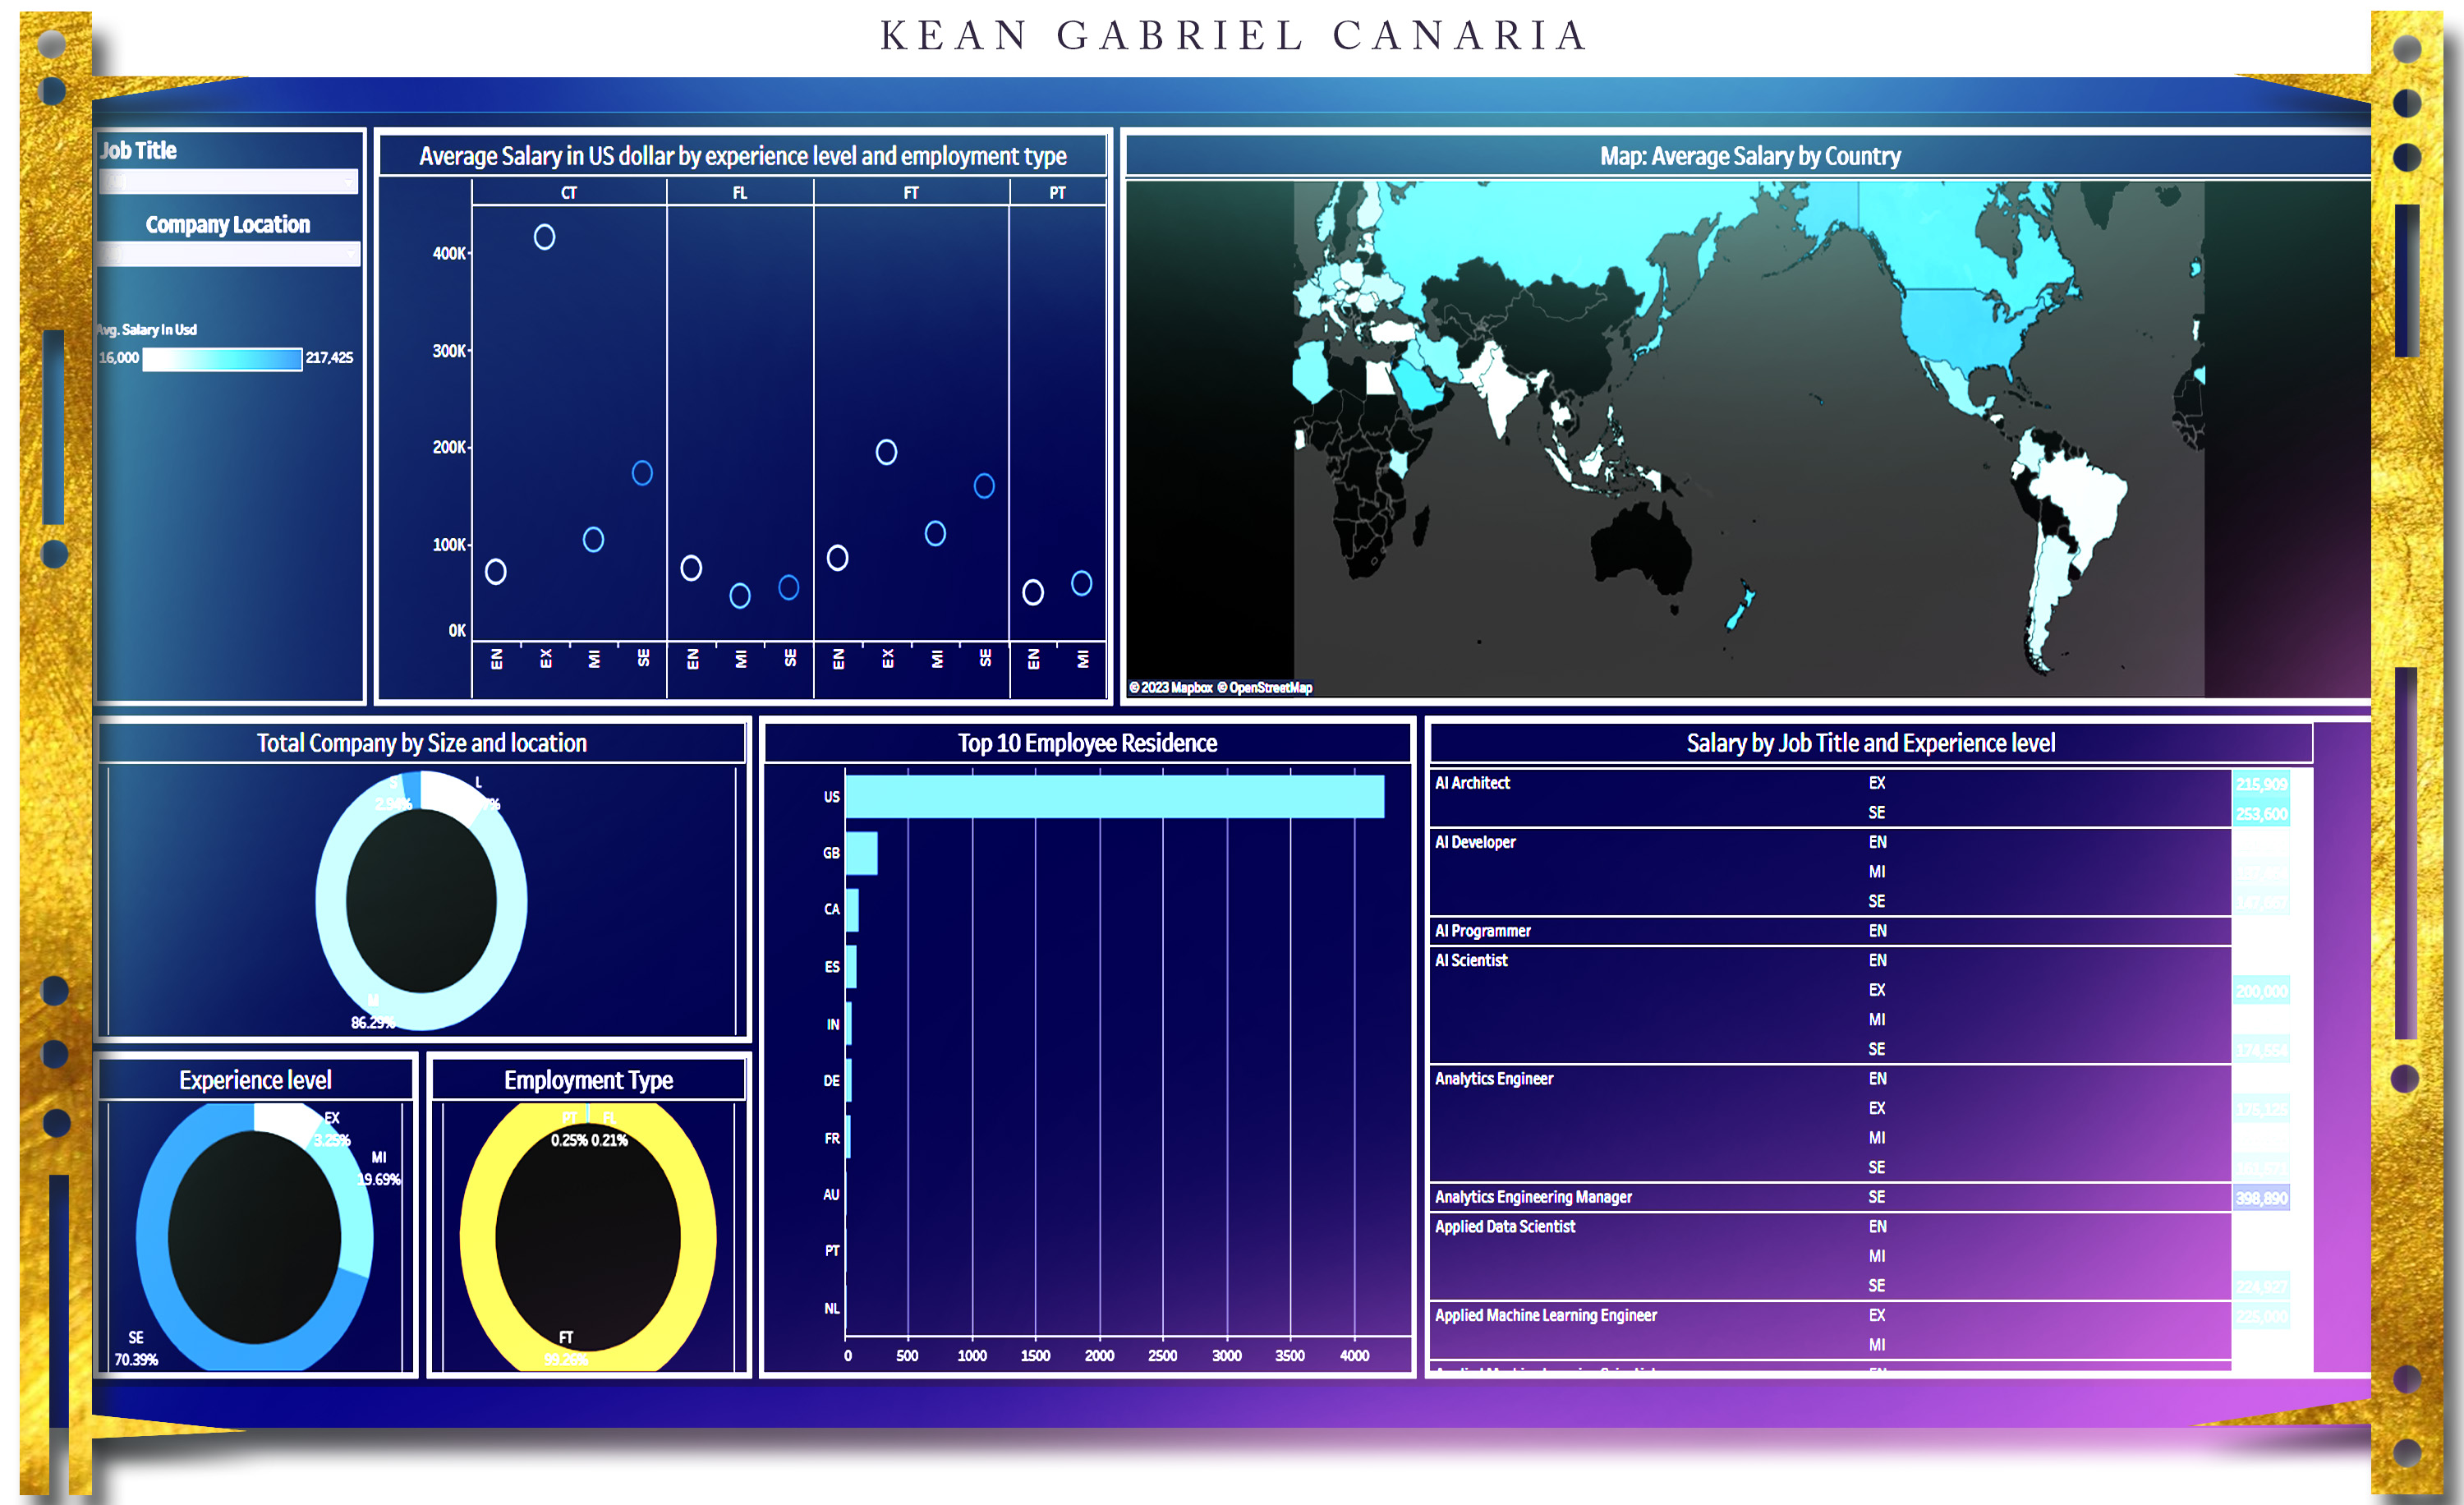

What the dashboard file says about the page in this screenshot:
{"tool":"tableau","page":{"name":"Dashboard 1","canvas":[2100,1200],"ordinal":0},"visuals":[{"type":"filter","title":"Total Company by Size and location","param":"[federated.1sarerf1fb0zes1at8tqd144o157].[none:company_location:nk]","box":[8,8,1042,64]},{"type":"filter","title":"Map: Average Salary by Country","param":"[federated.1sarerf1fb0zes1at8tqd144o157].[none:job_title:nk]","box":[1050,8,1042,69]},{"type":"worksheet","title":"Average Salary in US dollar by experience level and employment type","mark":"Shape","rows":["salary_in_usd"],"cols":["employment_type","experience_level"],"box":[8,77,933,519.8]},{"type":"worksheet","title":"Map: Average Salary by Country","mark":"Automatic","box":[941,77,1151,519.8]},{"type":"legend","title":"Map: Average Salary by Country","param":"[federated.1sarerf1fb0zes1at8tqd144o157].[avg:salary_in_usd:qk]","box":[1363,500,239,79]},{"type":"worksheet","title":"Total Company by Size and location","mark":"Pie","rows":["Calculation_1785818026465615873","Calculation_1785818026465615873"],"box":[8,596.8,604.5,297.6]},{"type":"worksheet","title":"Top 10 Employee Residence","mark":"Automatic","rows":["employee_residence"],"cols":["employee_residence"],"box":[612.5,596.8,604.5,595.2]},{"type":"worksheet","title":"Salary by Job Title and Experience level","mark":"Square","rows":["job_title","experience_level"],"box":[1217,596.8,875,595.2]},{"type":"worksheet","title":"Experience level","mark":"Pie","rows":["Calculation_1785818026465615873","Calculation_1785818026465615873"],"box":[8,894.4,302.3,297.6]},{"type":"worksheet","title":"Employment Type","mark":"Pie","rows":["Calculation_1785818026465615873","Calculation_1785818026465615873"],"box":[310.3,894.4,302.2,297.6]}]}

Visuals, with their boxes in screenshot pixels (x1, y1, x2, y2):
"Total Company by Size and location" filter: <box>67,48,1230,119</box>
"Map: Average Salary by Country" filter: <box>1230,48,2393,125</box>
"Average Salary in US dollar by experience level and employment type" worksheet (Shape marks): <box>67,125,1108,705</box>
"Map: Average Salary by Country" worksheet: <box>1108,125,2393,705</box>
"Map: Average Salary by Country" legend: <box>1579,596,1846,685</box>
"Total Company by Size and location" worksheet (Pie marks): <box>67,705,742,1037</box>
"Top 10 Employee Residence" worksheet: <box>742,705,1416,1369</box>
"Salary by Job Title and Experience level" worksheet (Square marks): <box>1416,705,2393,1369</box>
"Experience level" worksheet (Pie marks): <box>67,1037,404,1369</box>
"Employment Type" worksheet (Pie marks): <box>404,1037,742,1369</box>
